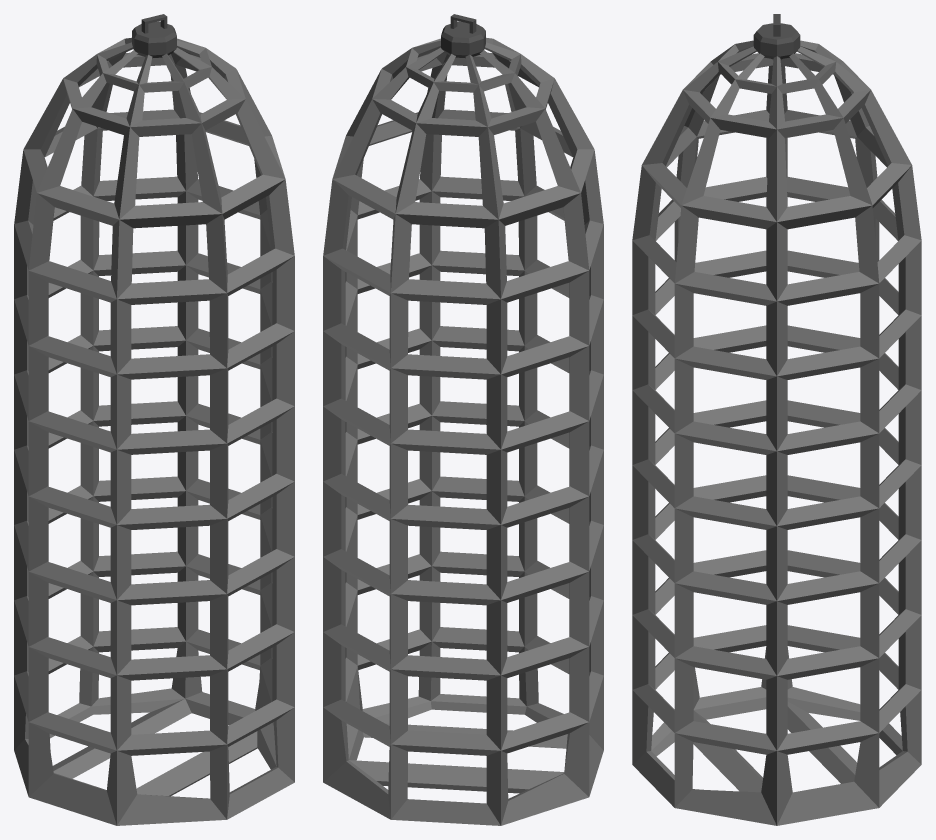
Rendered from LPCP_Cage07.fbx.
The picture shows the model from 3 angles, left to right: view 1: azimuth 30°, elevation 25°; view 2: azimuth 150°, elevation 25°; view 3: azimuth 270°, elevation 25°; orthographic projection.
Parts seen in each view (by area): view 1: LPCP_Cage07; view 2: LPCP_Cage07; view 3: LPCP_Cage07.
Part boxes in pixels (x1,y1,x2,y2): LPCP_Cage07: (14,14,294,825); LPCP_Cage07: (323,14,603,825); LPCP_Cage07: (632,14,921,825).
Size of the model in its own units: 2 by 5.69 by 2.
